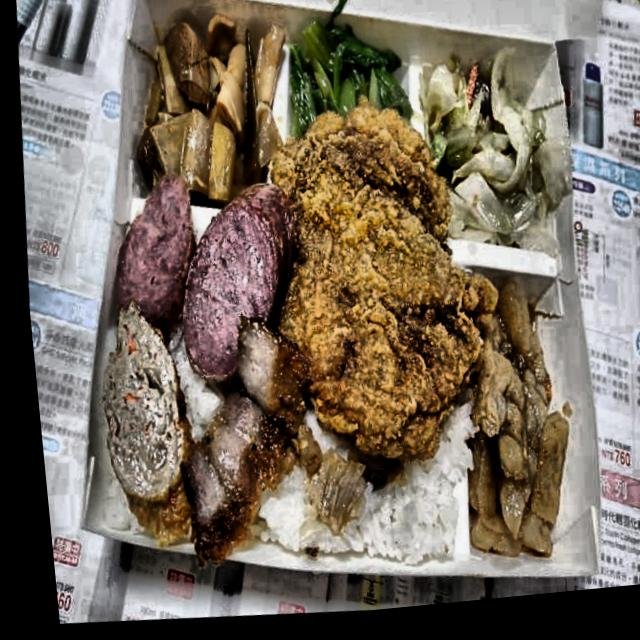Food: (248, 95, 503, 498), (97, 182, 295, 342), (419, 59, 553, 250)
